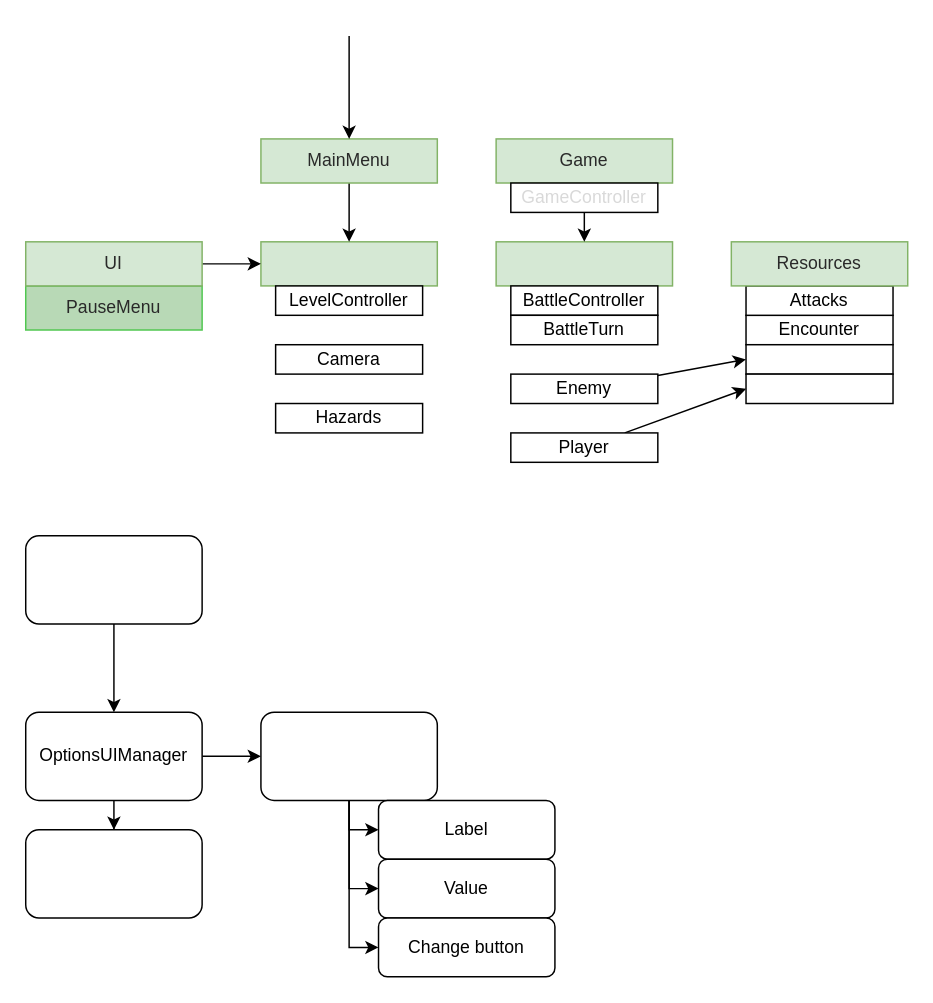
The diagram is 933 pixels wide and 1003 high, and some of its shapes have lost their labels. Here are the shapes that lost their labels. From the top down, the box of each, then its label:
(259, 240, 437, 286): Level
(495, 240, 673, 286): Battle
(745, 343, 893, 374): Battler
(745, 373, 893, 404): Party Member
(24, 534, 202, 624): Options
(259, 711, 437, 800): IOptionNode
(24, 828, 202, 918): OptionsManager
